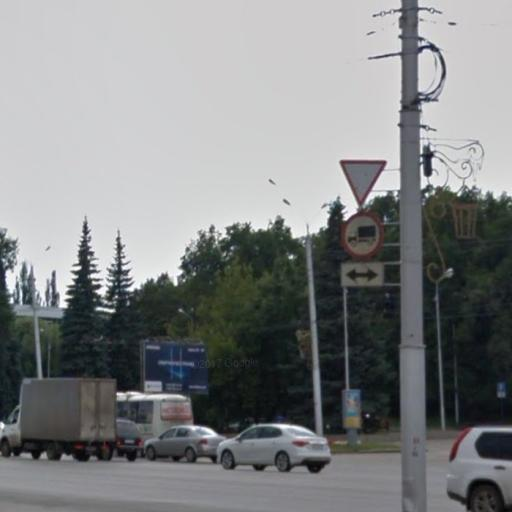traffic_sign: (338, 160, 390, 209), (340, 211, 387, 263)
